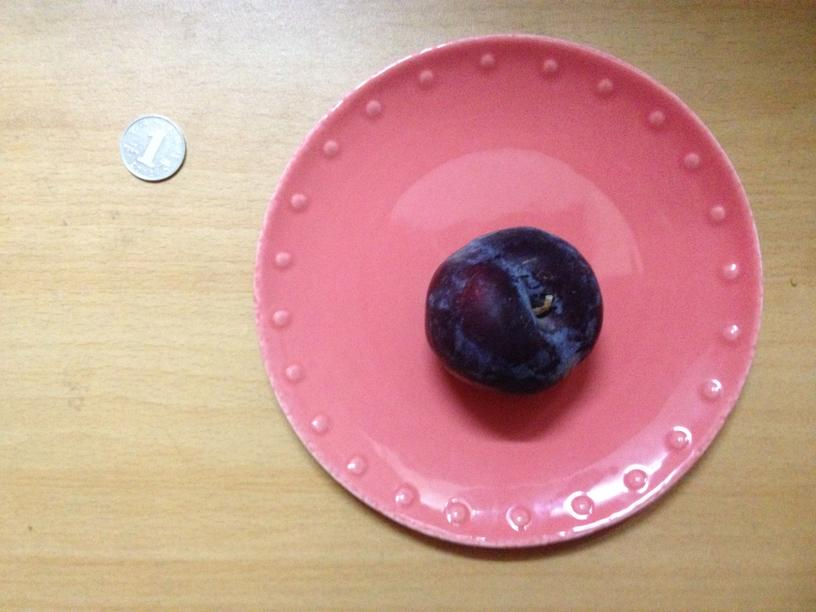coin: (115, 116, 190, 181)
plum: (419, 226, 603, 394)
